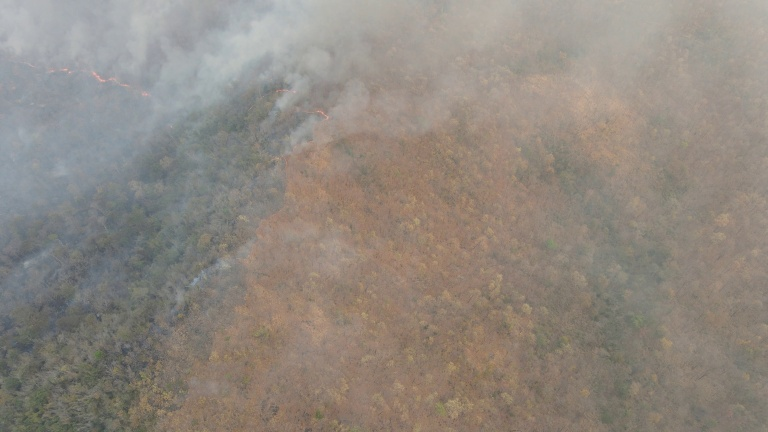fire: (3, 48, 157, 104), (275, 85, 336, 122)
smoke: (1, 1, 251, 158), (170, 229, 268, 312), (266, 39, 341, 120), (274, 97, 374, 156)
